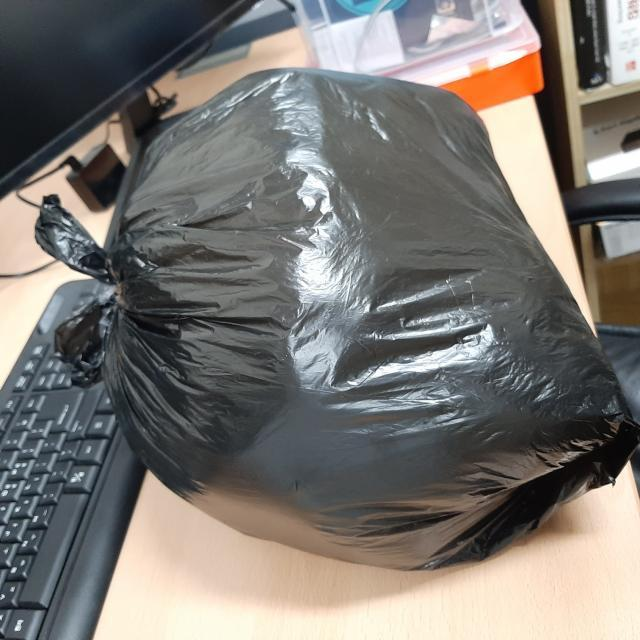black_bag: (32, 64, 638, 572)
